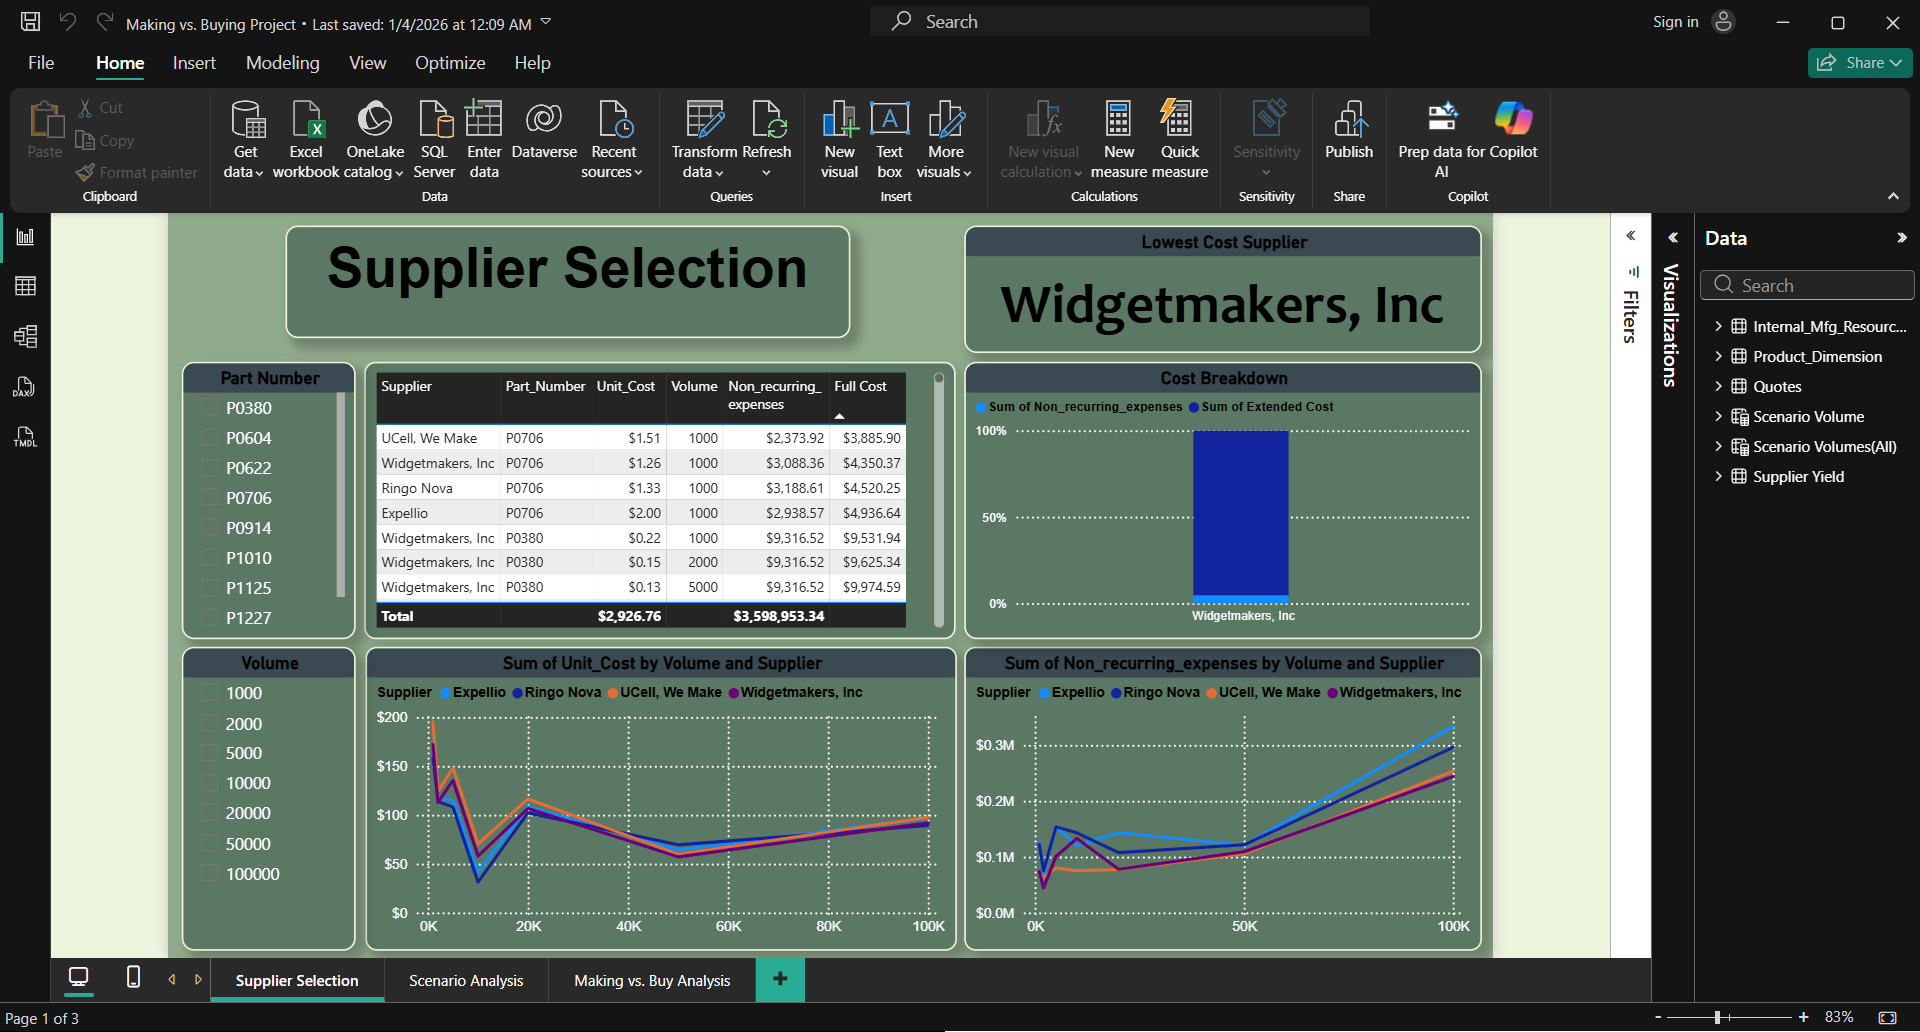

The dashboard page shown, as its layout file describes it:
{"tool":"powerbi","page":{"name":"Supplier Selection","canvas":[1280,720],"ordinal":0},"visuals":[{"type":"tableEx","fields":{"Values":["Quotes.Supplier","Quotes.Part_Number","Sum(Quotes.Unit_Cost)","Quotes.Volume","Sum(Quotes.Non_recurring_expenses)","Quotes.Full Cost"]},"box":[189.5,143.7,571,268],"z":0},{"type":"slicer","title":"Part Number","fields":{"Values":["Quotes.Part_Number"]},"box":[13.3,143.7,167.8,268],"z":1000},{"type":"lineChart","fields":{"Y":["Sum(Quotes.Unit_Cost)"],"Category":["Quotes.Volume"],"Series":["Quotes.Supplier"]},"box":[190.7,418.9,571,293.4],"z":2000},{"type":"lineChart","fields":{"Category":["Quotes.Volume"],"Series":["Quotes.Supplier"],"Y":["Sum(Quotes.Non_recurring_expenses)"]},"box":[769,418.9,499.8,293.4],"z":3000},{"type":"slicer","title":"Volume","fields":{"Values":["Quotes.Volume"]},"box":[13.3,418.9,167.8,293.4],"z":4000},{"type":"card","title":"Lowest Cost Supplier","fields":{"Values":["Min(Quotes.Supplier)"]},"box":[769,12.1,499.8,123.1],"z":5000},{"type":"hundredPercentStackedColumnChart","title":"Cost Breakdown","fields":{"Y":["Sum(Quotes.Non_recurring_expenses)","Sum(Quotes.Extended Cost)"],"Category":["Quotes.Supplier"]},"box":[769,143.7,499.8,268],"z":6000},{"type":"textbox","box":[113.5,12.1,545.7,108.7],"z":6001}]}

Visuals, with their boxes on the page's 1280x720 design canvas (x1, y1, x2, y2). These are canvas units, not pixel positions in the 1920x1032 screenshot, which may show the page scaled, cropped or inside an application window:
tableEx - Quotes.Supplier x Quotes.Part_Number: BBox(190, 144, 760, 412)
"Part Number" slicer: BBox(13, 144, 181, 412)
lineChart - Sum(Quotes.Unit_Cost) x Quotes.Volume: BBox(191, 419, 762, 712)
lineChart - Quotes.Volume x Quotes.Supplier: BBox(769, 419, 1269, 712)
"Volume" slicer: BBox(13, 419, 181, 712)
"Lowest Cost Supplier" card: BBox(769, 12, 1269, 135)
"Cost Breakdown" hundredPercentStackedColumnChart: BBox(769, 144, 1269, 412)
textbox: BBox(114, 12, 659, 121)
